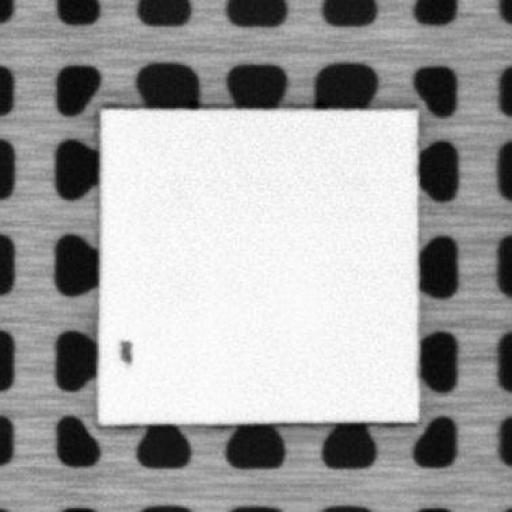DIE_INK: (116, 336, 133, 366)
